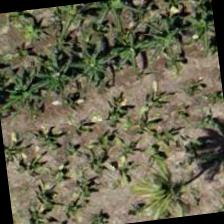Kelapa_Sawit: (129, 138, 223, 222)
